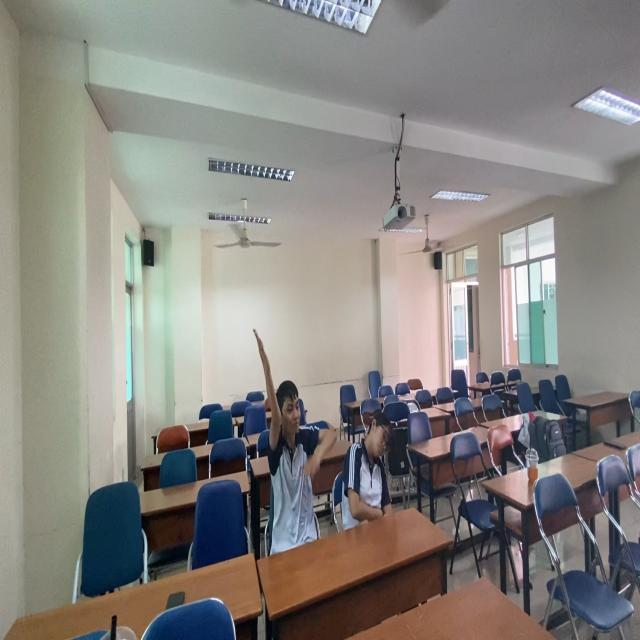raise_hand: (253, 325, 340, 558)
